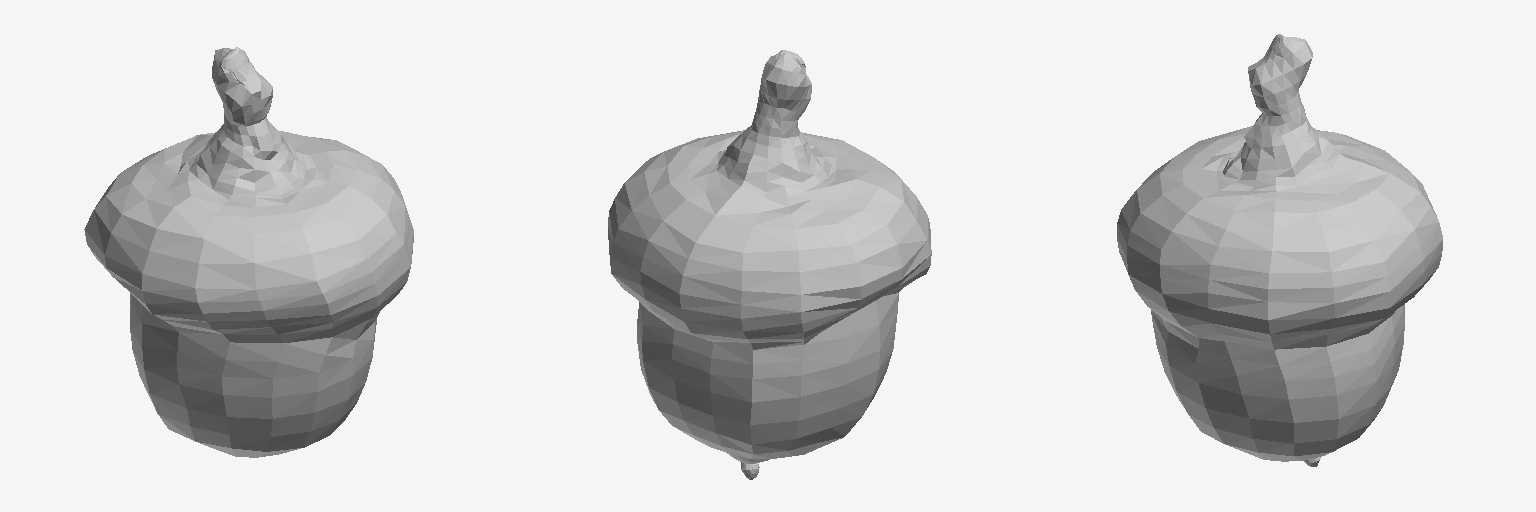
Rendered from acorn_2.obj.
3 renders of one model, left to right at view 1: azimuth 30°, elevation 25°; view 2: azimuth 150°, elevation 25°; view 3: azimuth 270°, elevation 25°, orthographic.
Parts seen in each view (by area): view 1: Acorn_big; view 2: Acorn_big; view 3: Acorn_big.
Part boxes in pixels (x1,y1,x2,y2): Acorn_big: (84, 47, 413, 457); Acorn_big: (608, 50, 931, 479); Acorn_big: (1117, 34, 1442, 466).
Bounding box in the file's own units: 1.55 × 2.18 × 1.53.